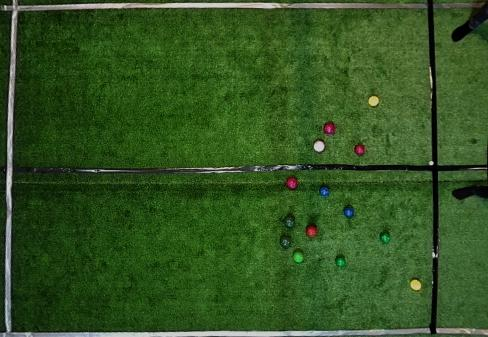blue: (343, 208, 354, 219), (319, 187, 329, 198)
green: (283, 217, 295, 229), (293, 252, 304, 264), (280, 238, 291, 250), (380, 234, 390, 245), (335, 258, 346, 268)
red: (286, 178, 298, 190), (306, 226, 317, 238), (313, 141, 325, 152), (324, 122, 335, 134), (354, 145, 365, 156)
vline: (427, 0, 487, 337), (0, 0, 19, 337)
white: (429, 161, 434, 166)
yellow: (410, 280, 422, 291), (368, 96, 379, 106)
